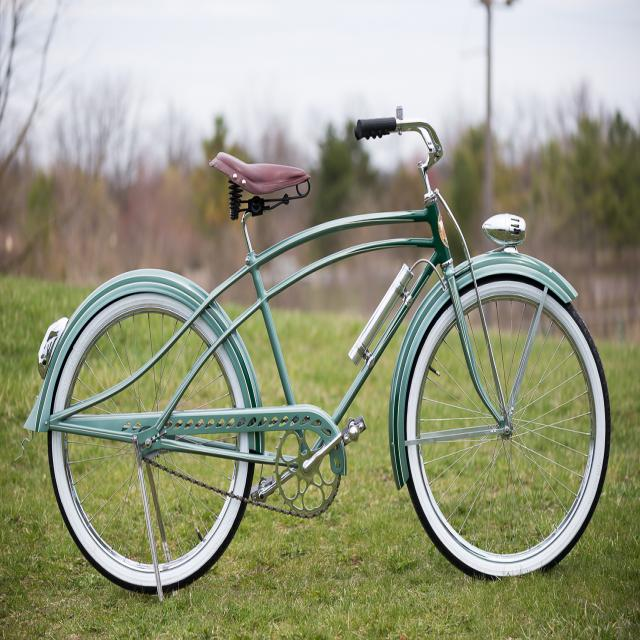urban-bike: (28, 109, 608, 590)
